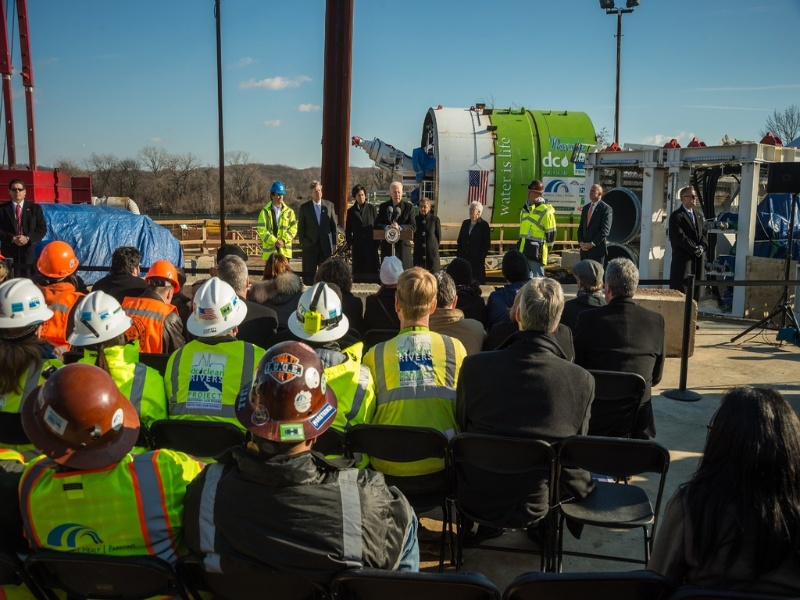Baret: (291, 281, 350, 342), (189, 282, 245, 335), (75, 296, 133, 338), (40, 237, 81, 277), (148, 259, 181, 286), (268, 180, 286, 196)
